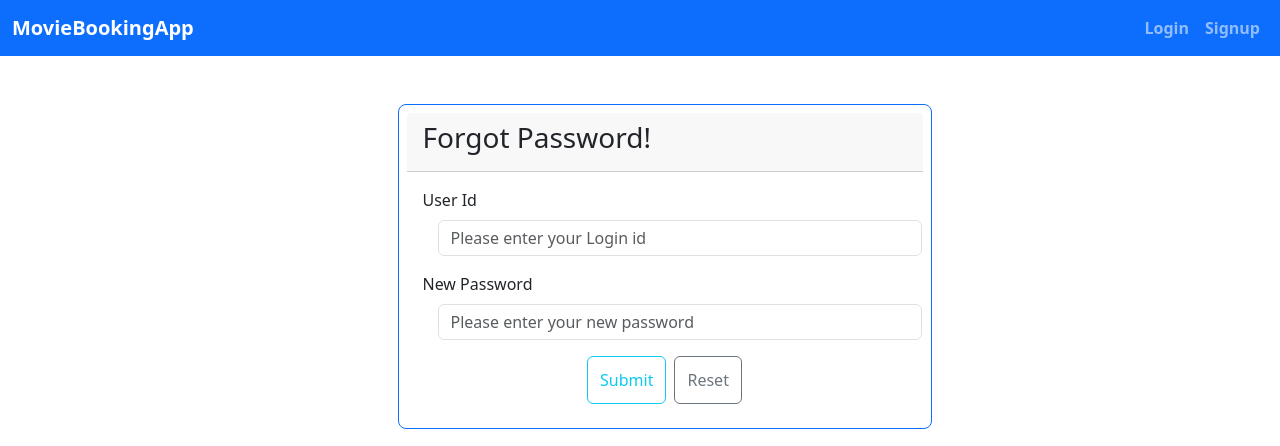
Test: ForgotPassword Component › resets the form correctly
The width and height of the screenshot is (1280, 446).
Type "testUser" into the field labelled "User Id".
click(680, 238); type("testUser")  # box x1=438 y1=220 x2=922 y2=256
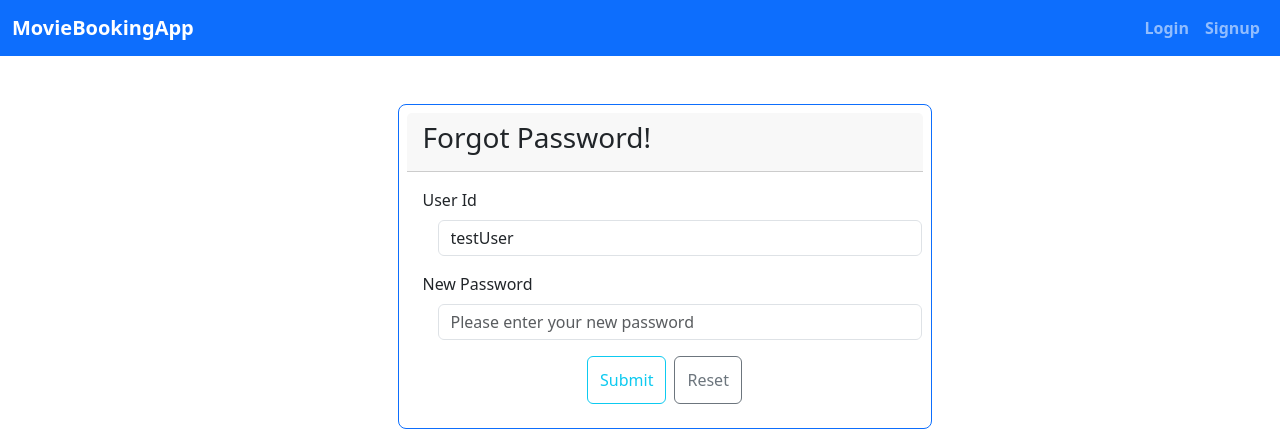
Type "testPassword123" into the password field labelled "New Password".
click(680, 322); type("testPassword123")  # box x1=438 y1=304 x2=922 y2=340
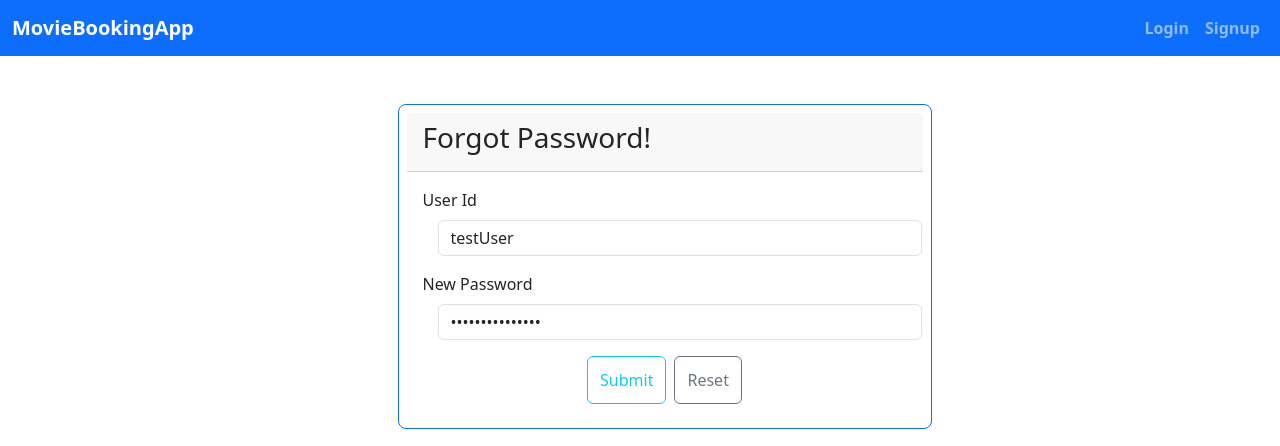
Click the button "Reset".
click(708, 380)  # box x1=674 y1=356 x2=742 y2=404
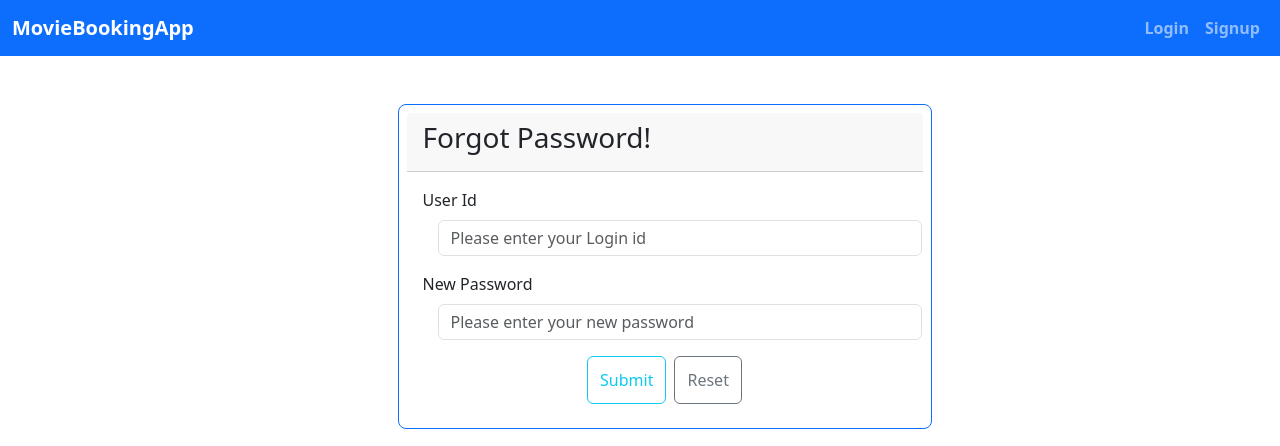
Now the field labelled "User Id" is empty, box x1=438 y1=220 x2=922 y2=256
Now the password field labelled "New Password" is empty, box x1=438 y1=304 x2=922 y2=340
